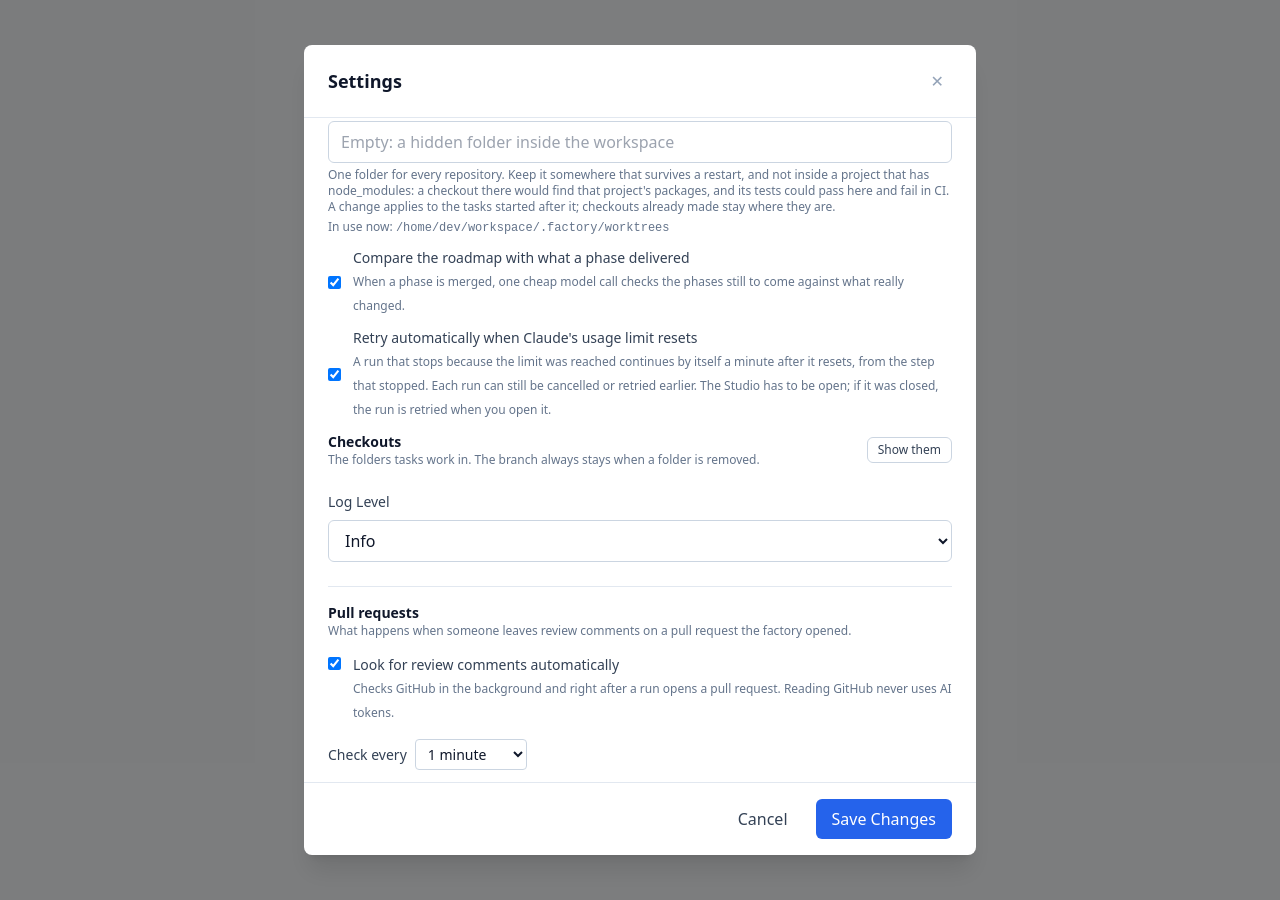
Scenario: the checkouts › cleans up the finished ones, and lists what it kept and why
(page scrolled)
Step 1. Click the button "Show them" → (909, 450), box top-left (867, 437), bottom-right (952, 463)
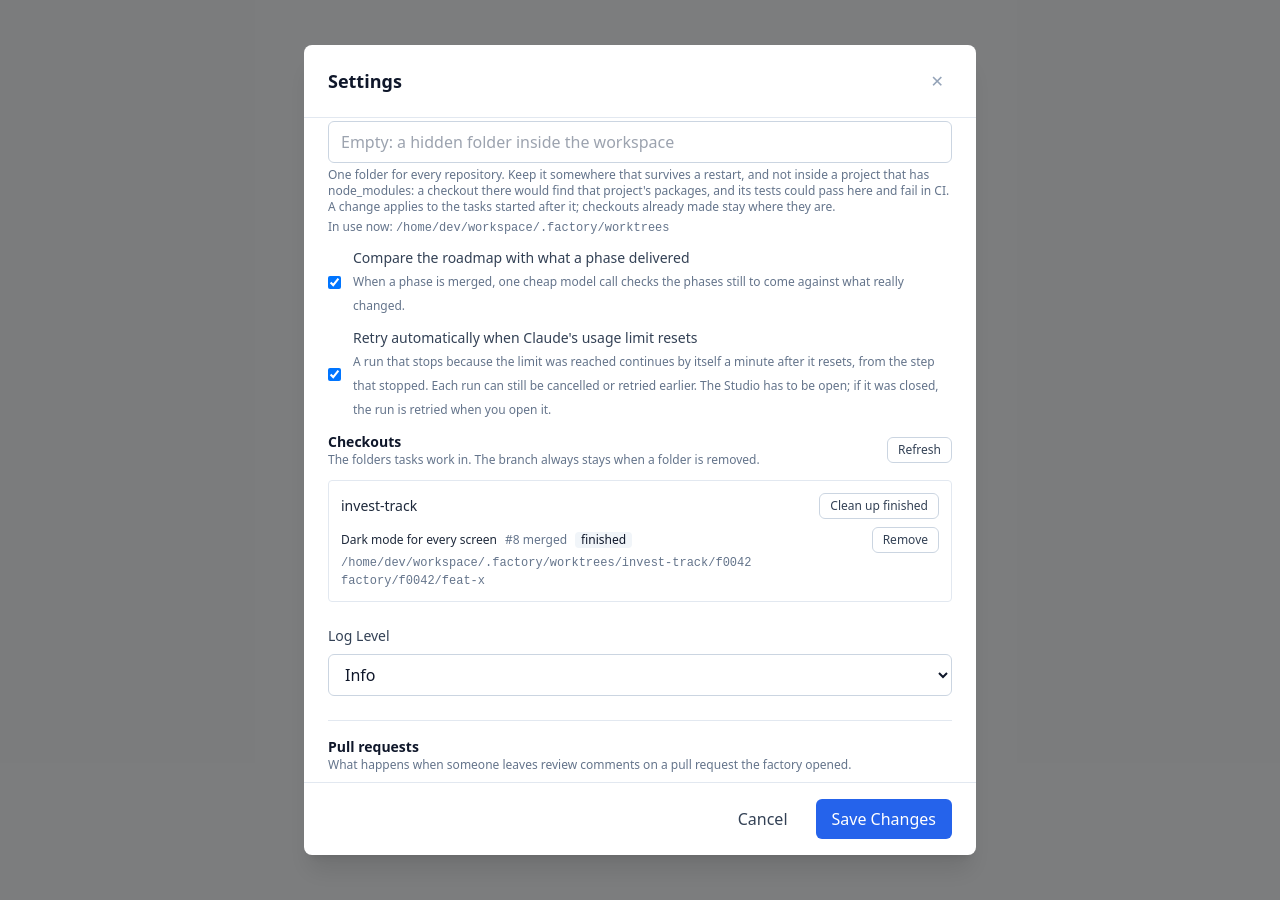
Step 2. Click the button "Clean up finished" → (879, 506), box top-left (819, 493), bottom-right (939, 519)
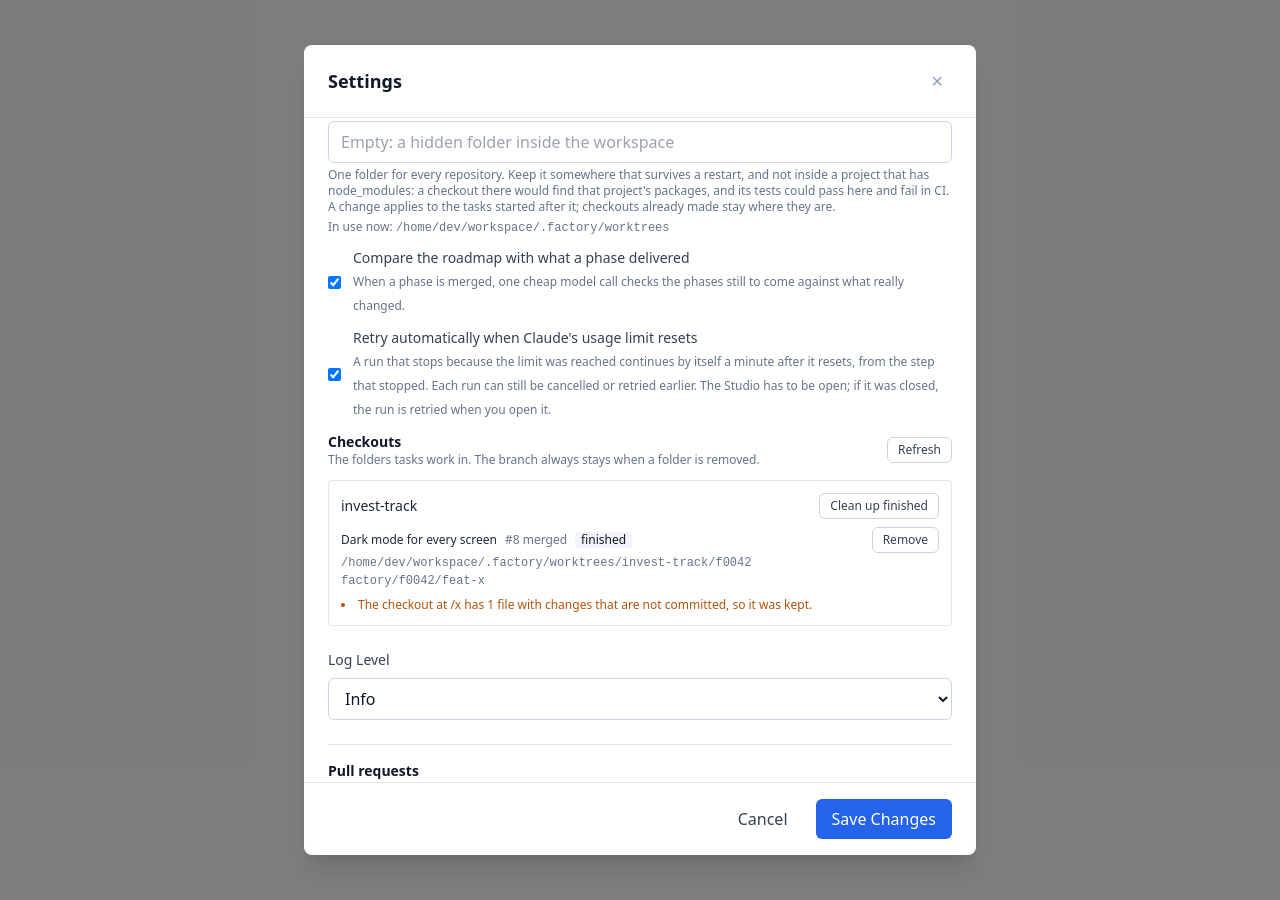
Expected: the element with test id "worktrees-invest-track" shows "so it was kept", top-left (358, 596), bottom-right (812, 613)
